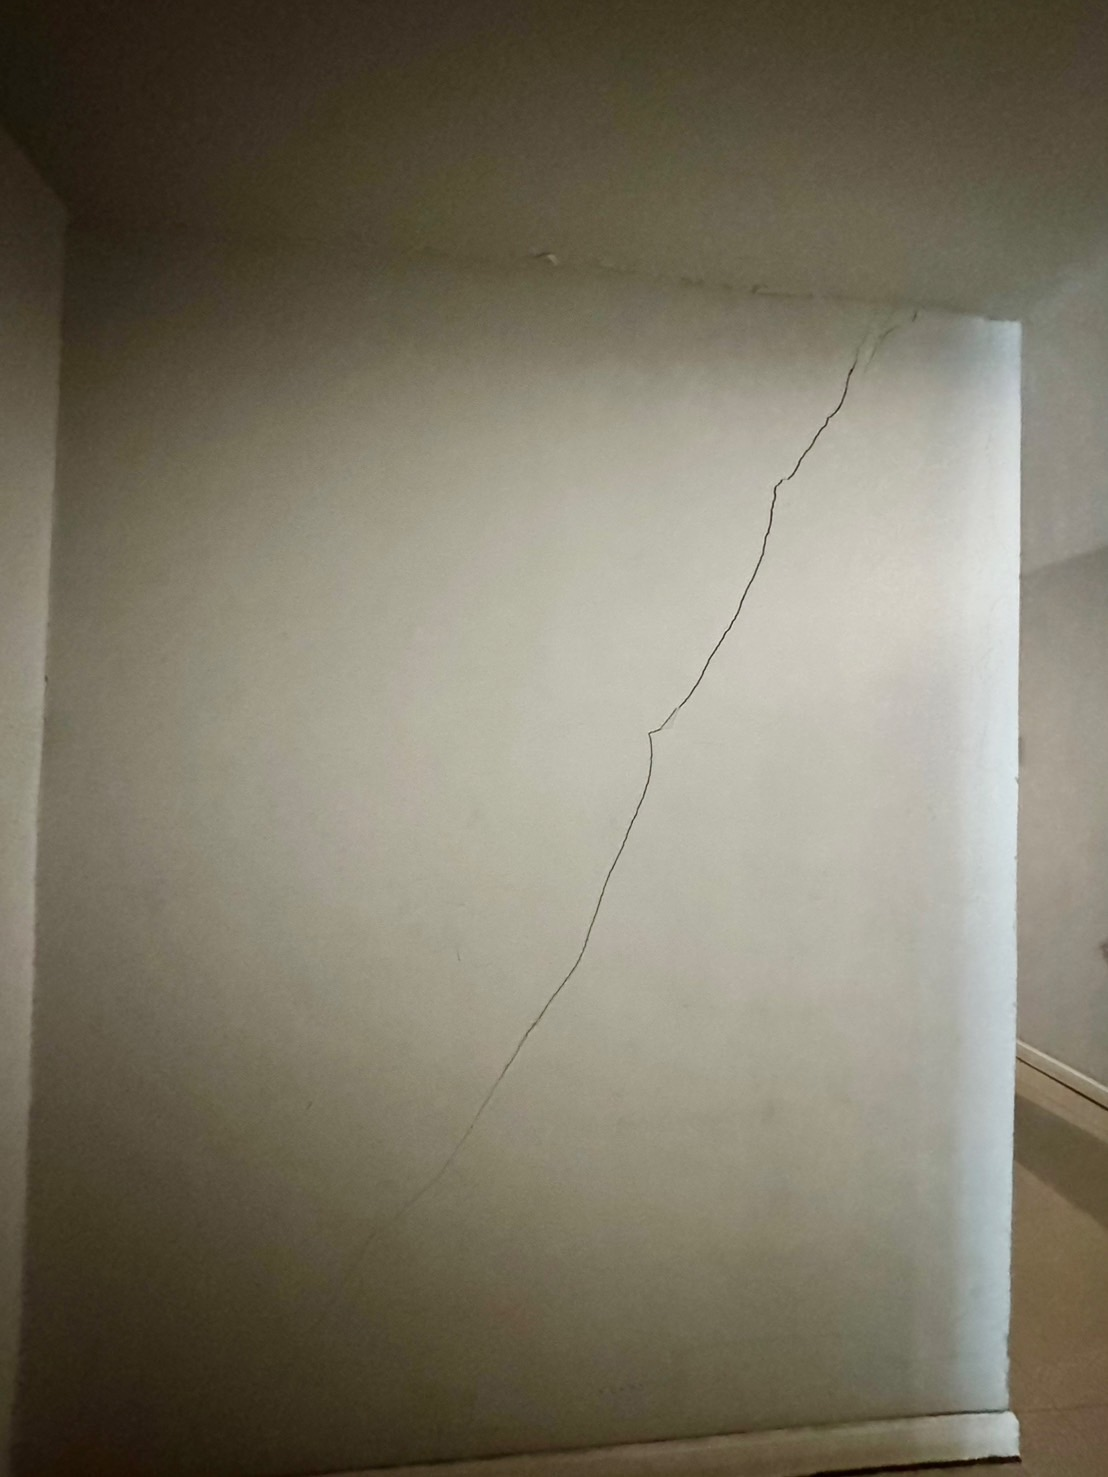Low: (310, 301, 947, 1350)
